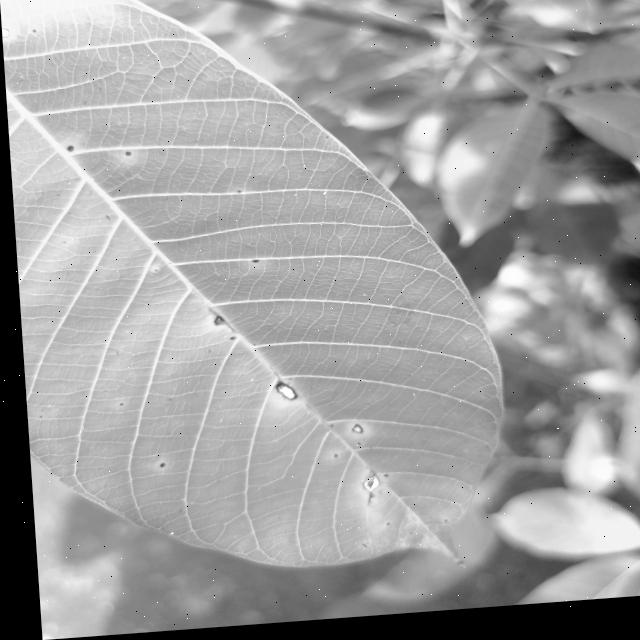Colletotrichum: (269, 385, 292, 405), (345, 428, 357, 439), (1, 28, 10, 38), (209, 320, 219, 328), (65, 146, 72, 153), (123, 153, 129, 158), (248, 263, 255, 267), (151, 271, 154, 274), (33, 31, 36, 33)
